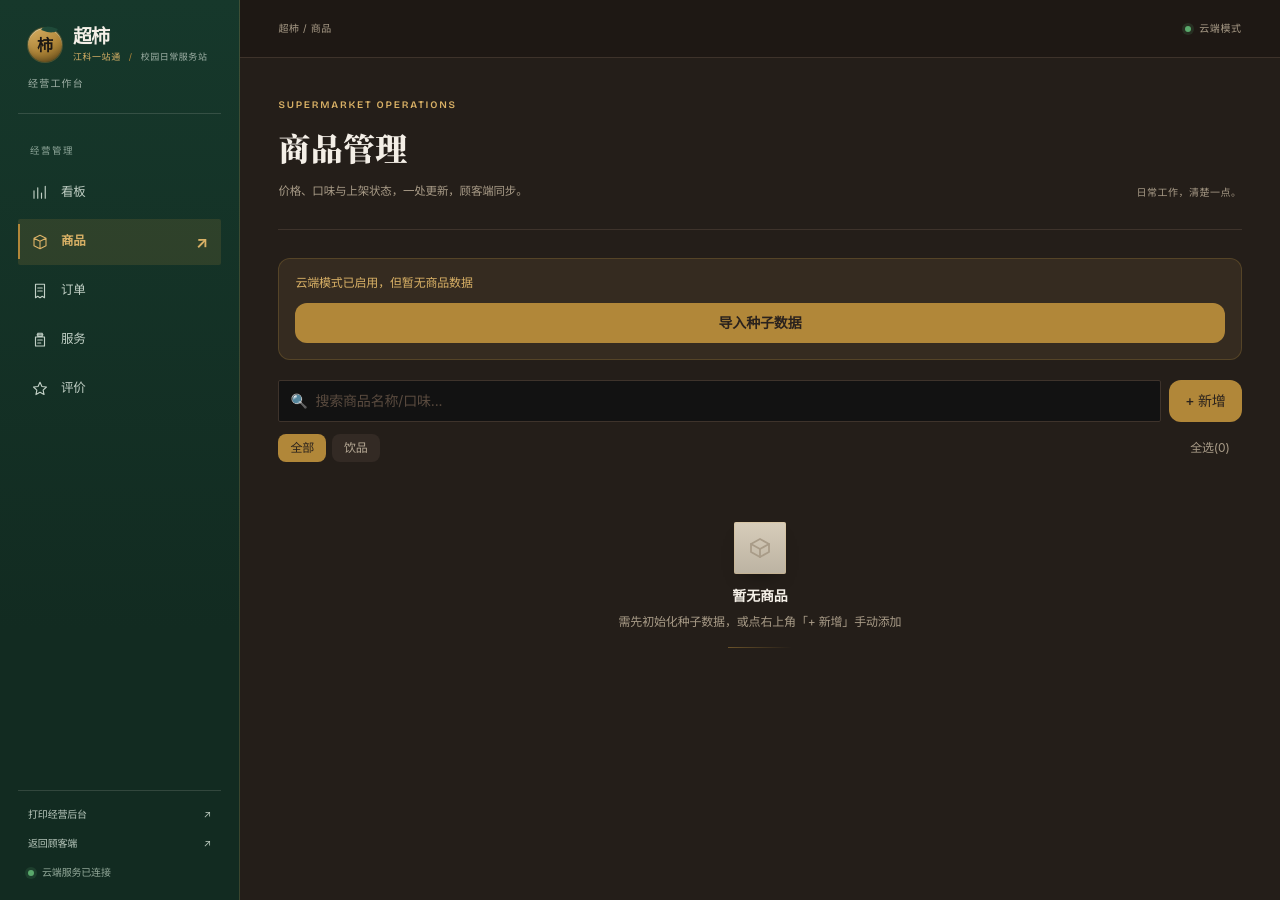
Test: AdminPage 管理壳 › 云端空商品：导入种子走两步确认，第二下才 seedCloudData 并回显结果
Click the button "导入种子数据" at (760, 323), box 295,303 -> 1225,343
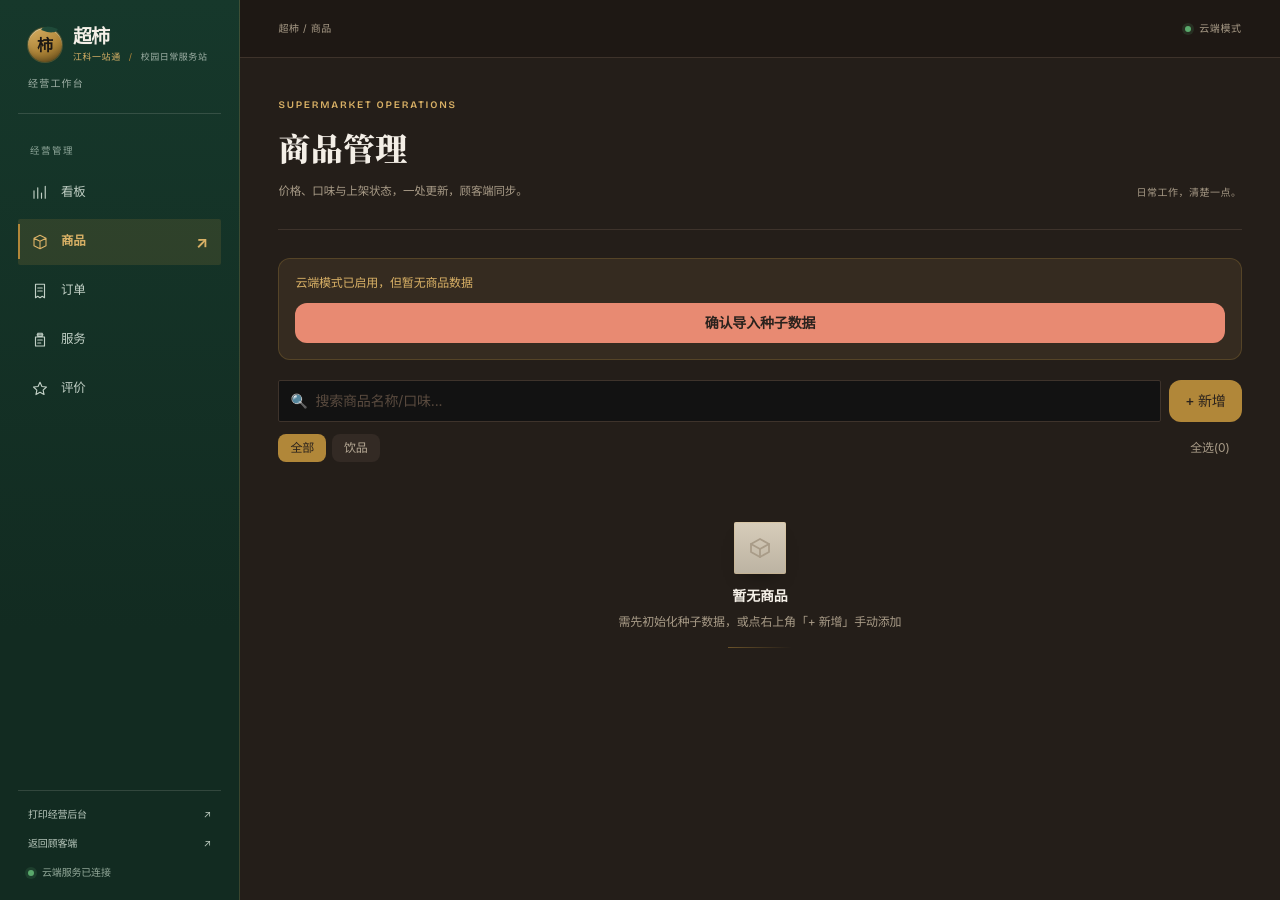
Click the button with aria-label "确认导入种子数据（仅首次需要）" at (760, 323), box 295,303 -> 1225,343
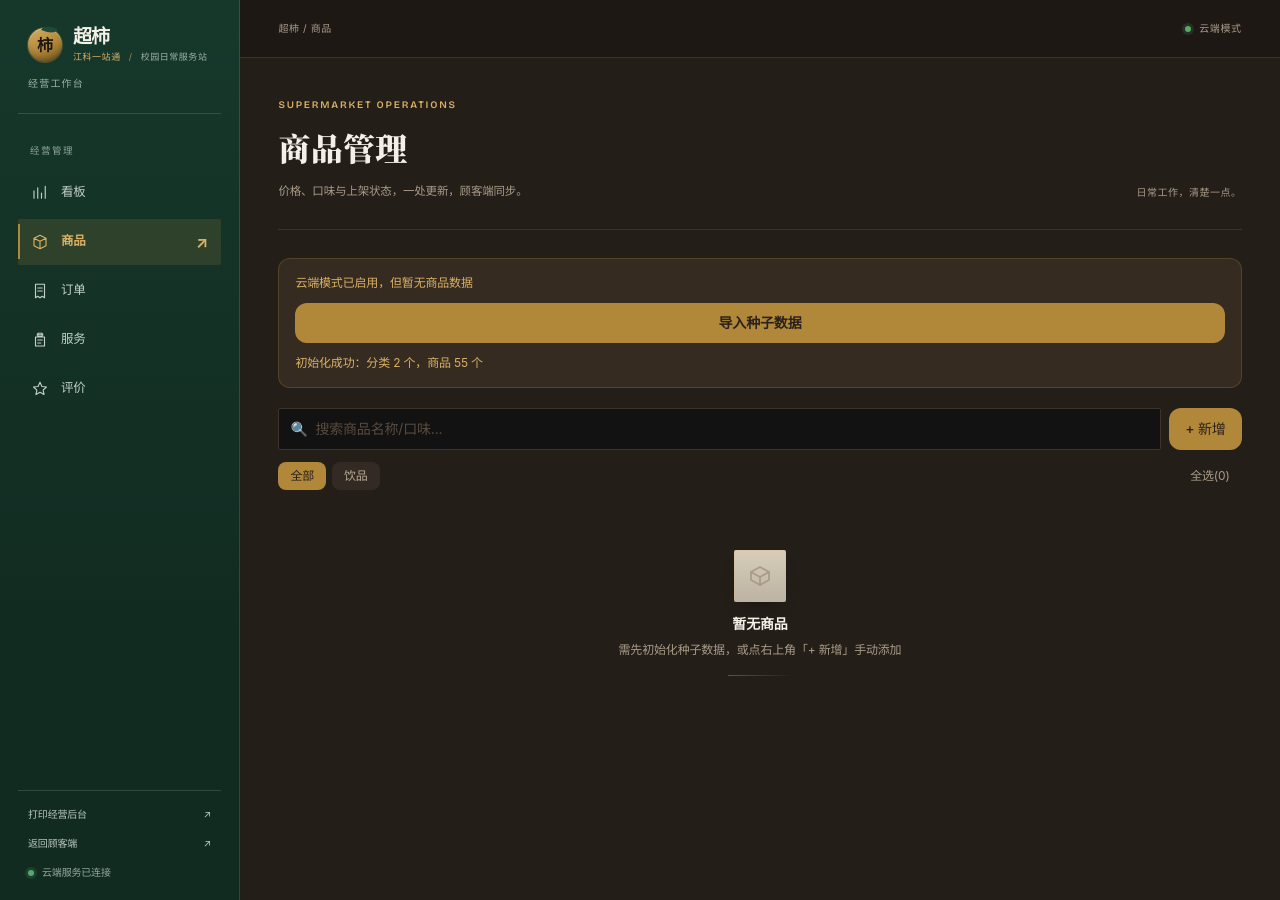
Expected: the text "初始化成功：分类 2 个，商品 55 个" is shown, 295,355 -> 483,370
